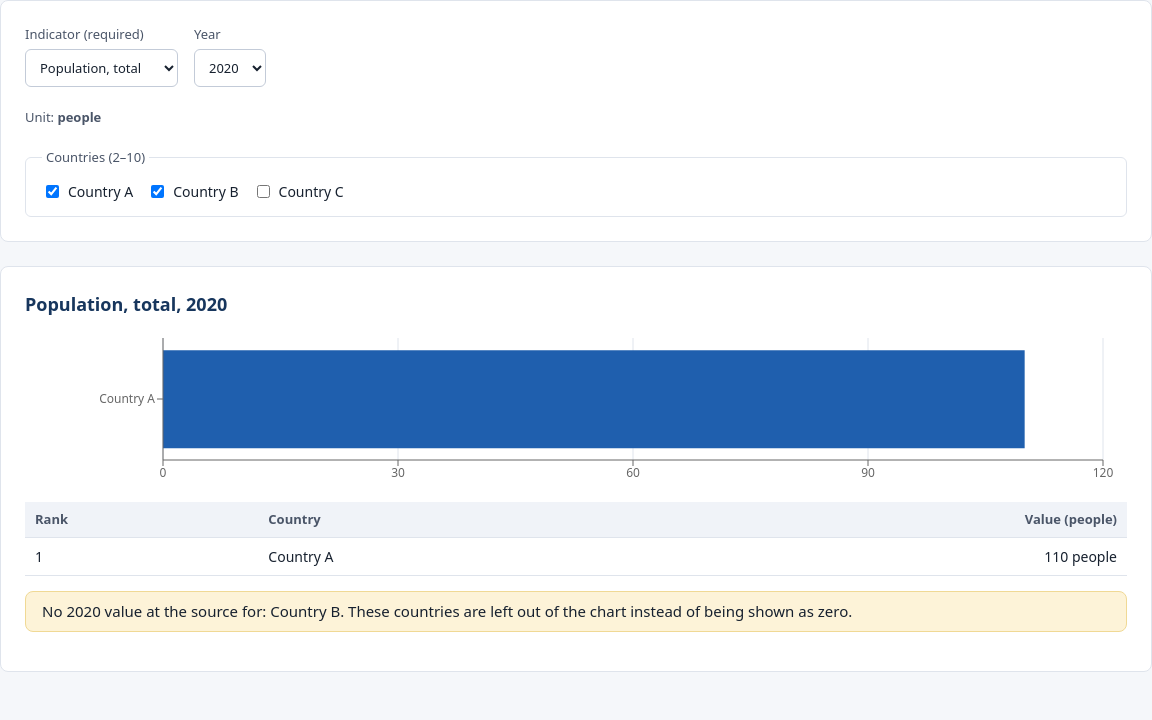
Test: ComparePage › requires at least two countries before requesting
Step 1. Click the checkbox labelled "Country B" → x=158, y=192, box [151,185,164,198]
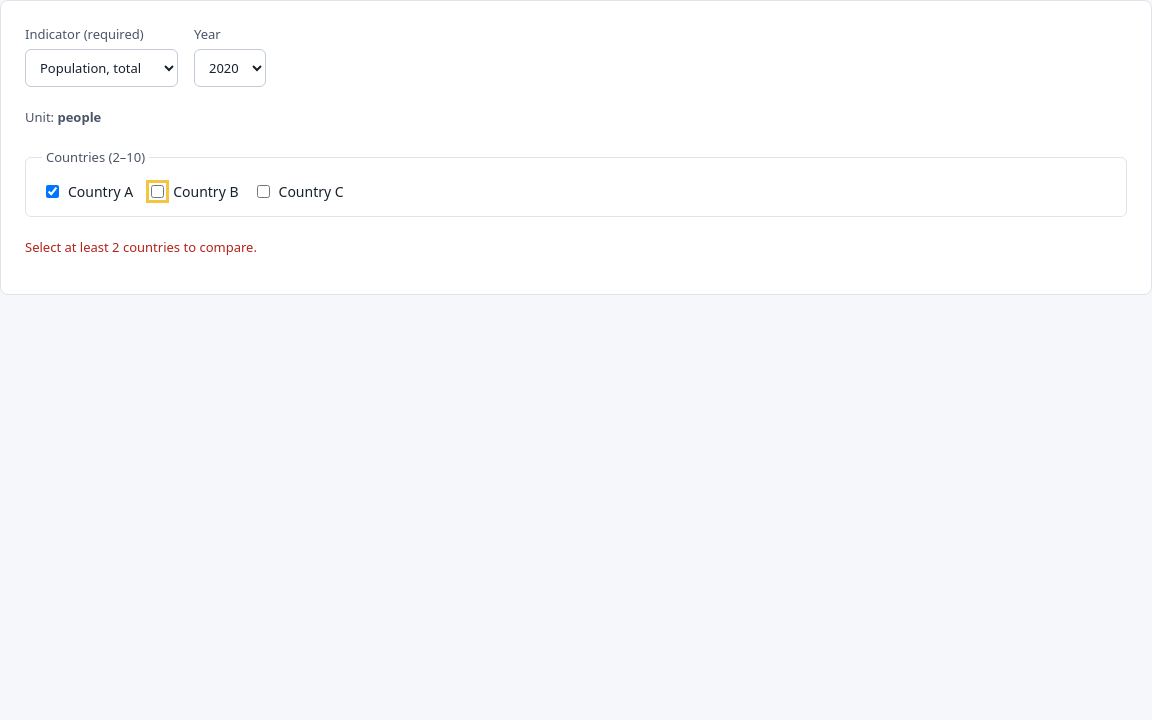
Check: the message reads "Select at least 2 countries to compare.", box [25,238,257,256]
